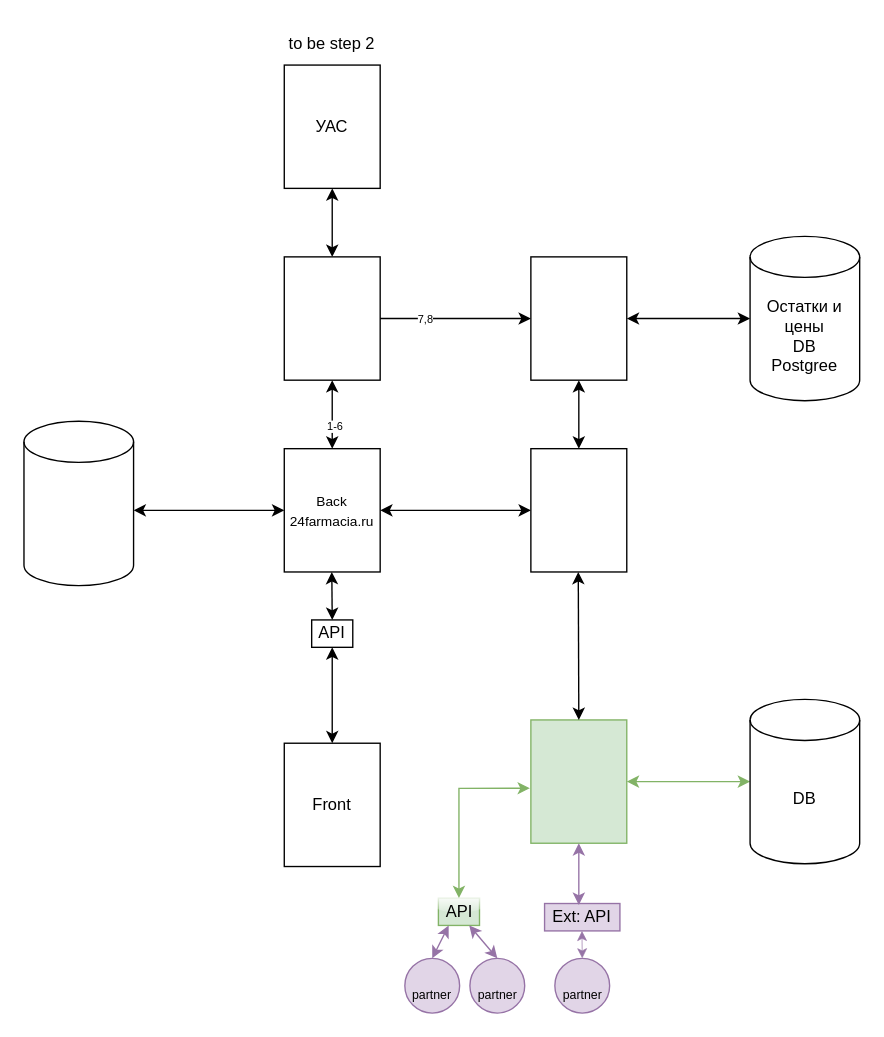
The diagram is 884 pixels wide and 1037 high, and some of its shapes have lost their labels. The centre of each missing label's shape, as x and y in pixels:
"integrations service" goes at (578,781).
"product balances service" goes at (578,318).
"RMQ" goes at (331,318).
"RMQ 24farmacia" goes at (578,509).
"Интернет магазин DB Postgree" goes at (78,503).
